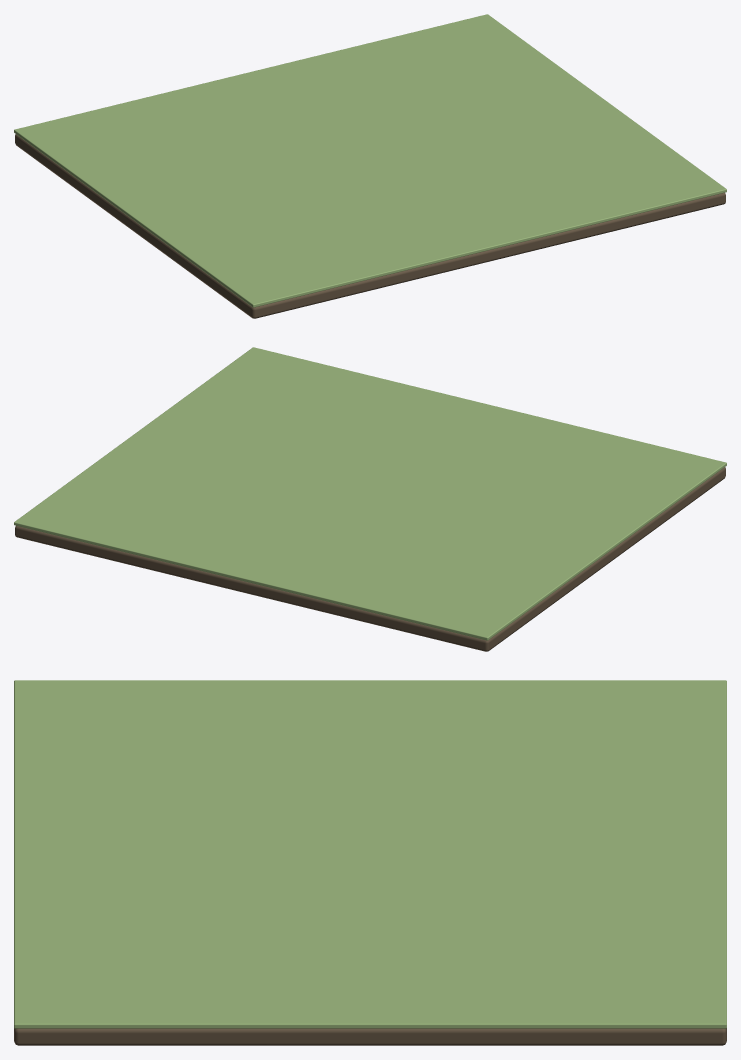
File: almanac-gardens-spring-ground-7fed157b__22041.glb
3 renders of one model, top to bottom at view 1: azimuth 30°, elevation 25°; view 2: azimuth 150°, elevation 25°; view 3: azimuth 270°, elevation 25°, orthographic. The views are drawn at different scales.
Visible parts, largest first — view 1: spring-ground-sage, spring-ground-soil; view 2: spring-ground-sage, spring-ground-soil; view 3: spring-ground-sage, spring-ground-soil.
Boxes of the visible parts, box(x1,y1,x2,y2) form: spring-ground-sage: box(14, 14, 726, 307); spring-ground-soil: box(15, 134, 725, 318); spring-ground-sage: box(14, 347, 726, 640); spring-ground-soil: box(15, 467, 725, 651); spring-ground-sage: box(14, 680, 726, 1028); spring-ground-soil: box(14, 1028, 726, 1045).
Bounding box in the file's own units: 8 × 0.2549 × 7.
